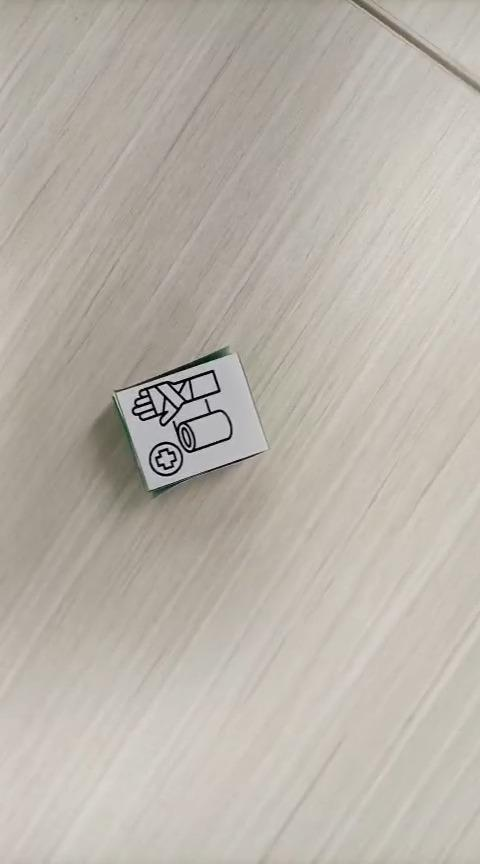Bandages: (111, 344, 269, 493)
